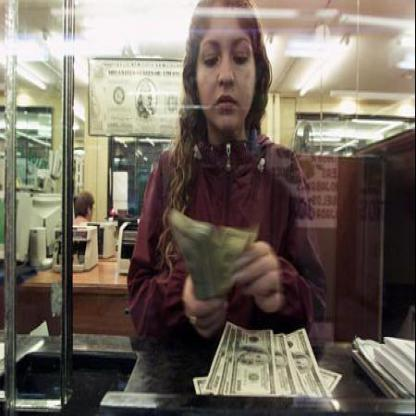face: (196, 1, 258, 134)
